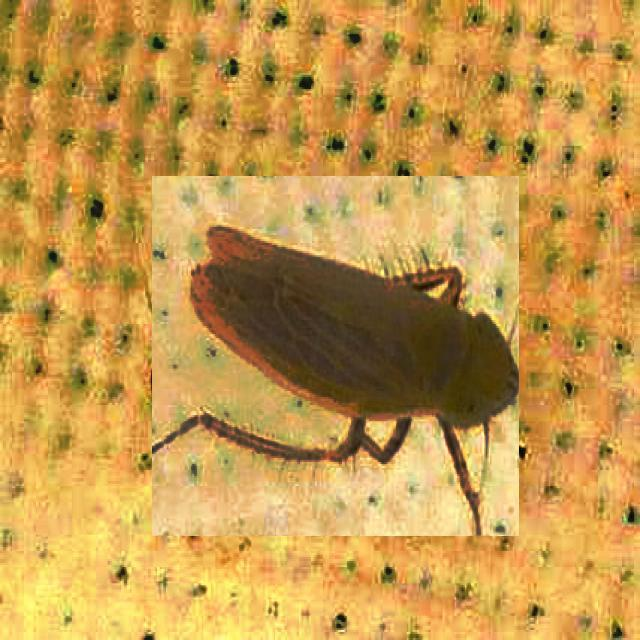green-leafhopper: (152, 176, 519, 536)
